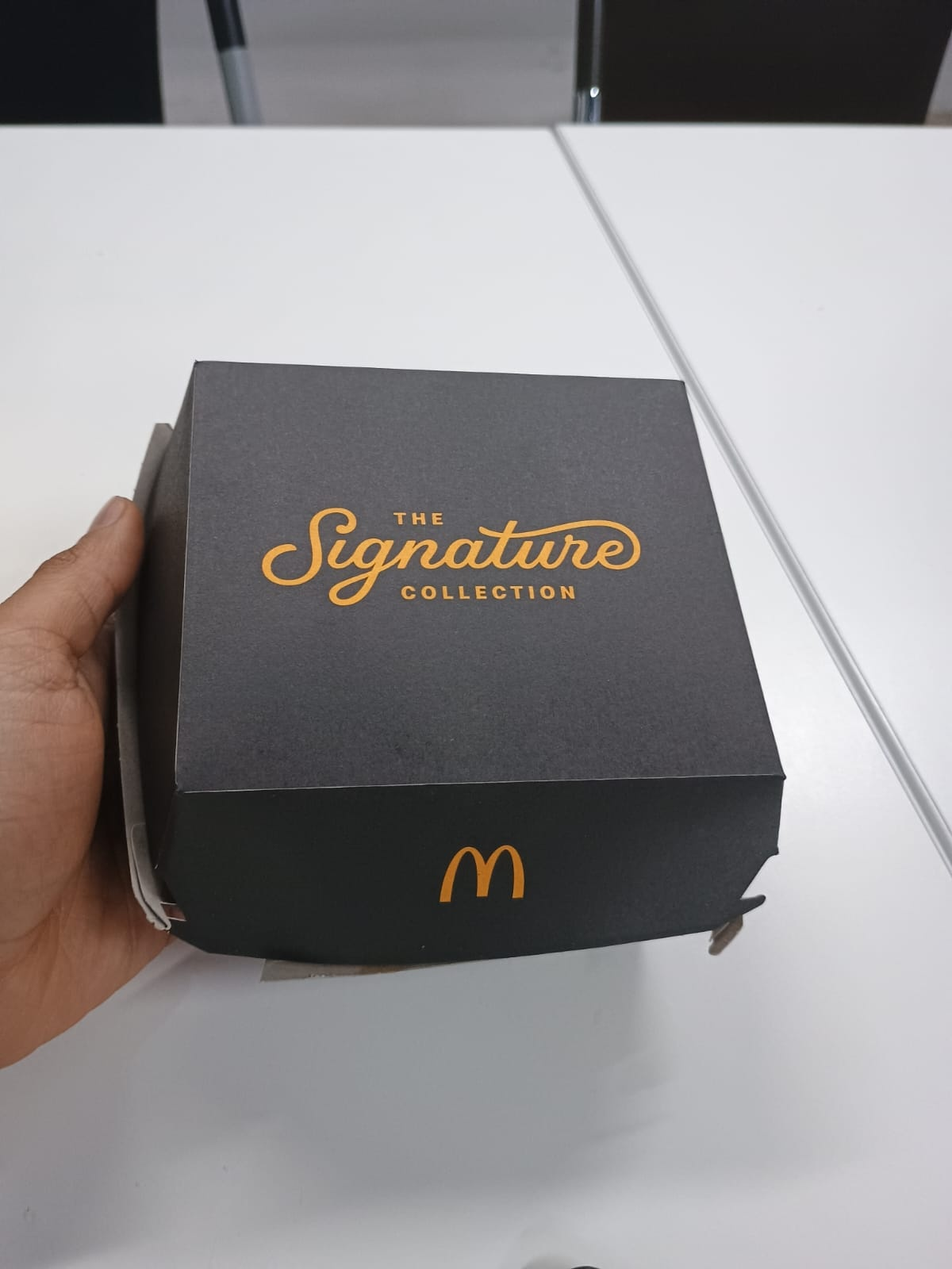Carton: (113, 361, 782, 972)
